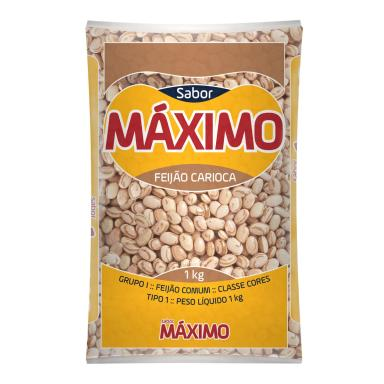beans package: (87, 22, 302, 362)
